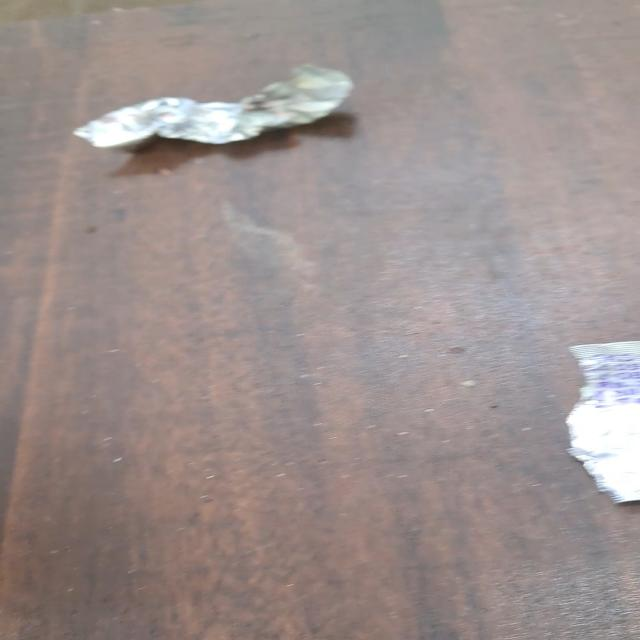Anorganik: (76, 64, 352, 154), (566, 340, 640, 506)
